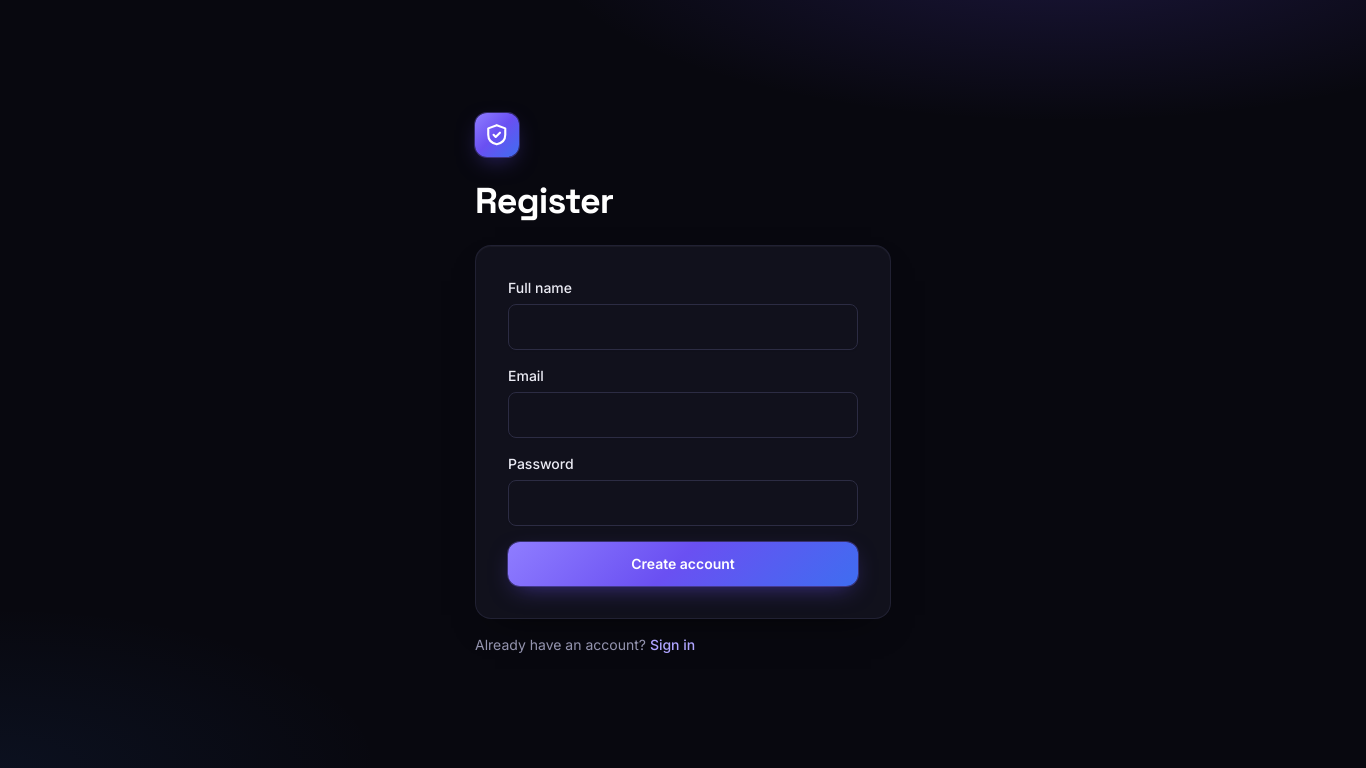
Register page › shows validation errors for empty fields
Click the button "Create account".
click(683, 564)  # box [508, 542, 858, 586]
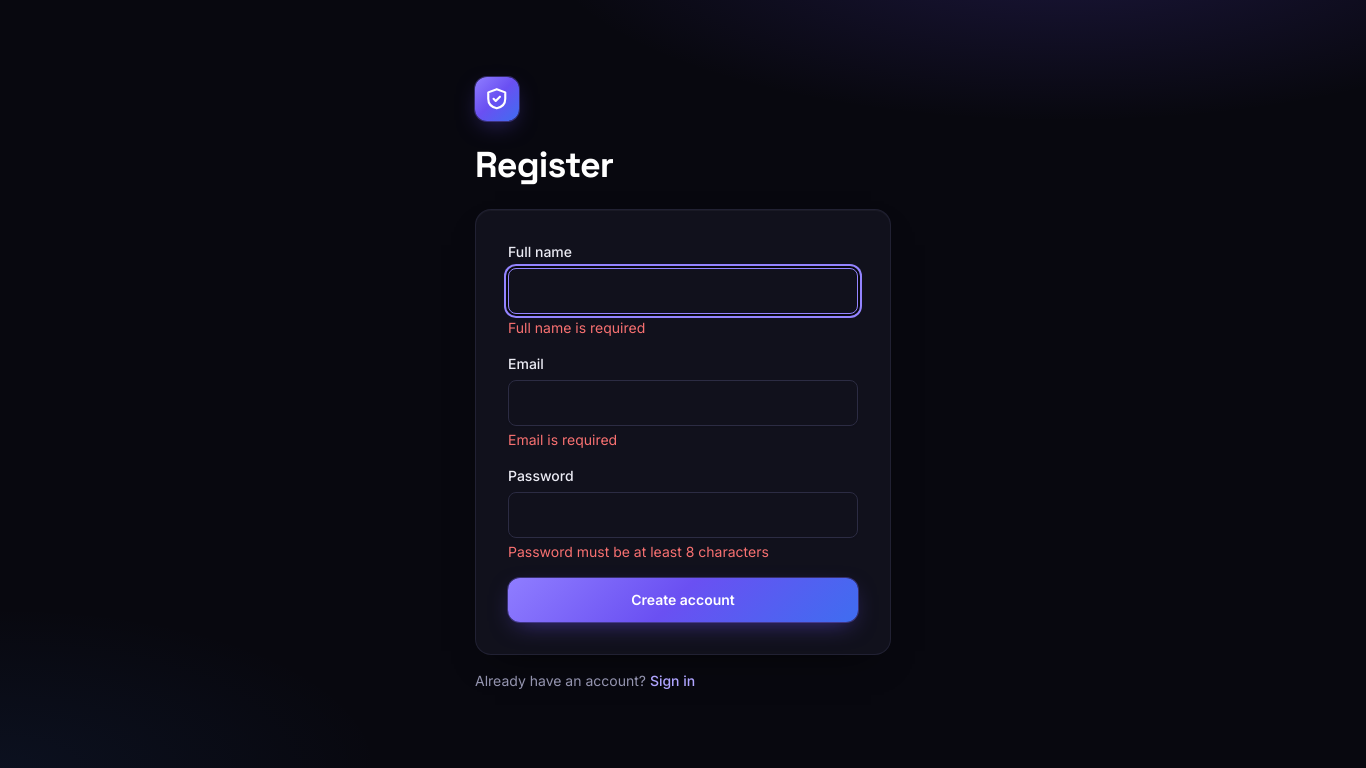
Expected: the text "Full name is required" is shown, [508, 319, 645, 336]
Expected: the text "Email is required" is shown, [508, 431, 617, 448]
Expected: the text "Password must be at least 8 characters" is shown, [508, 543, 769, 560]
